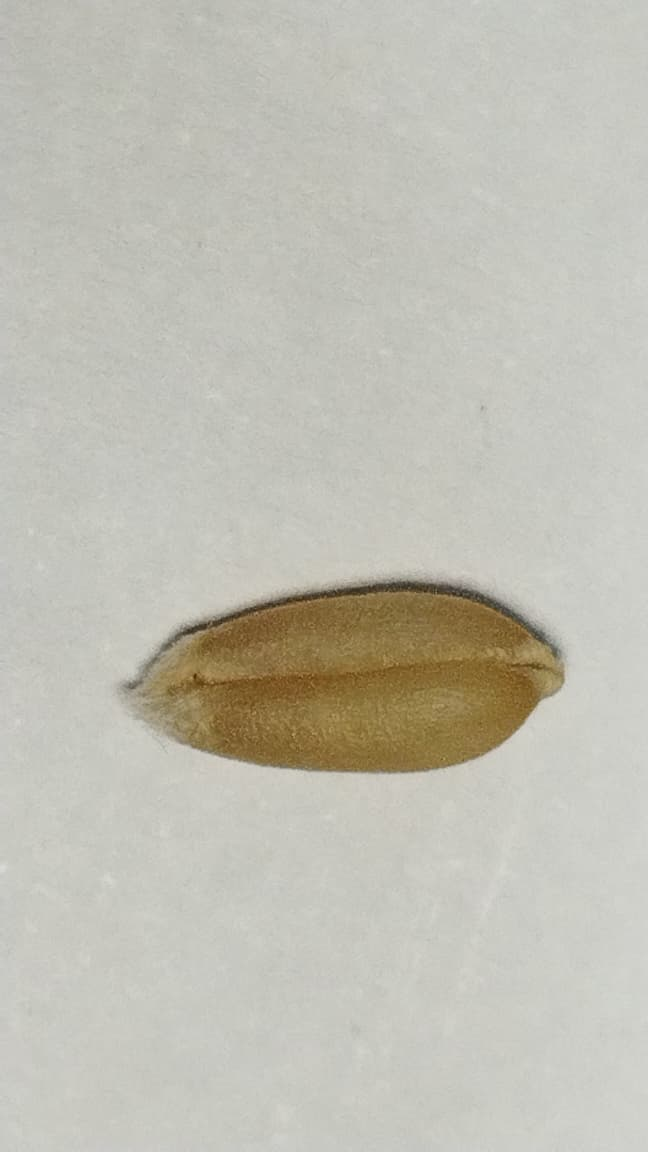healthy: (134, 586, 560, 769)
